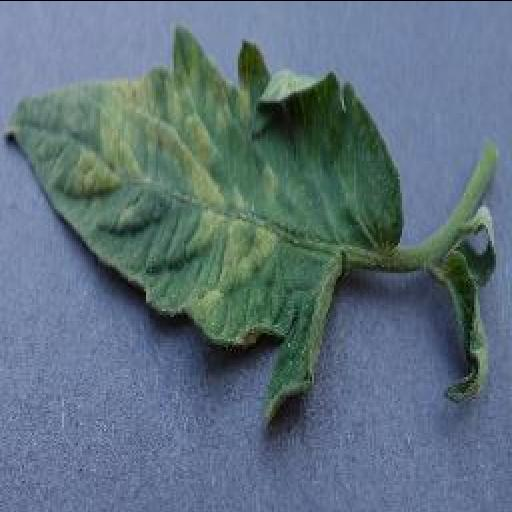disease_tomato: (3, 24, 405, 425)
